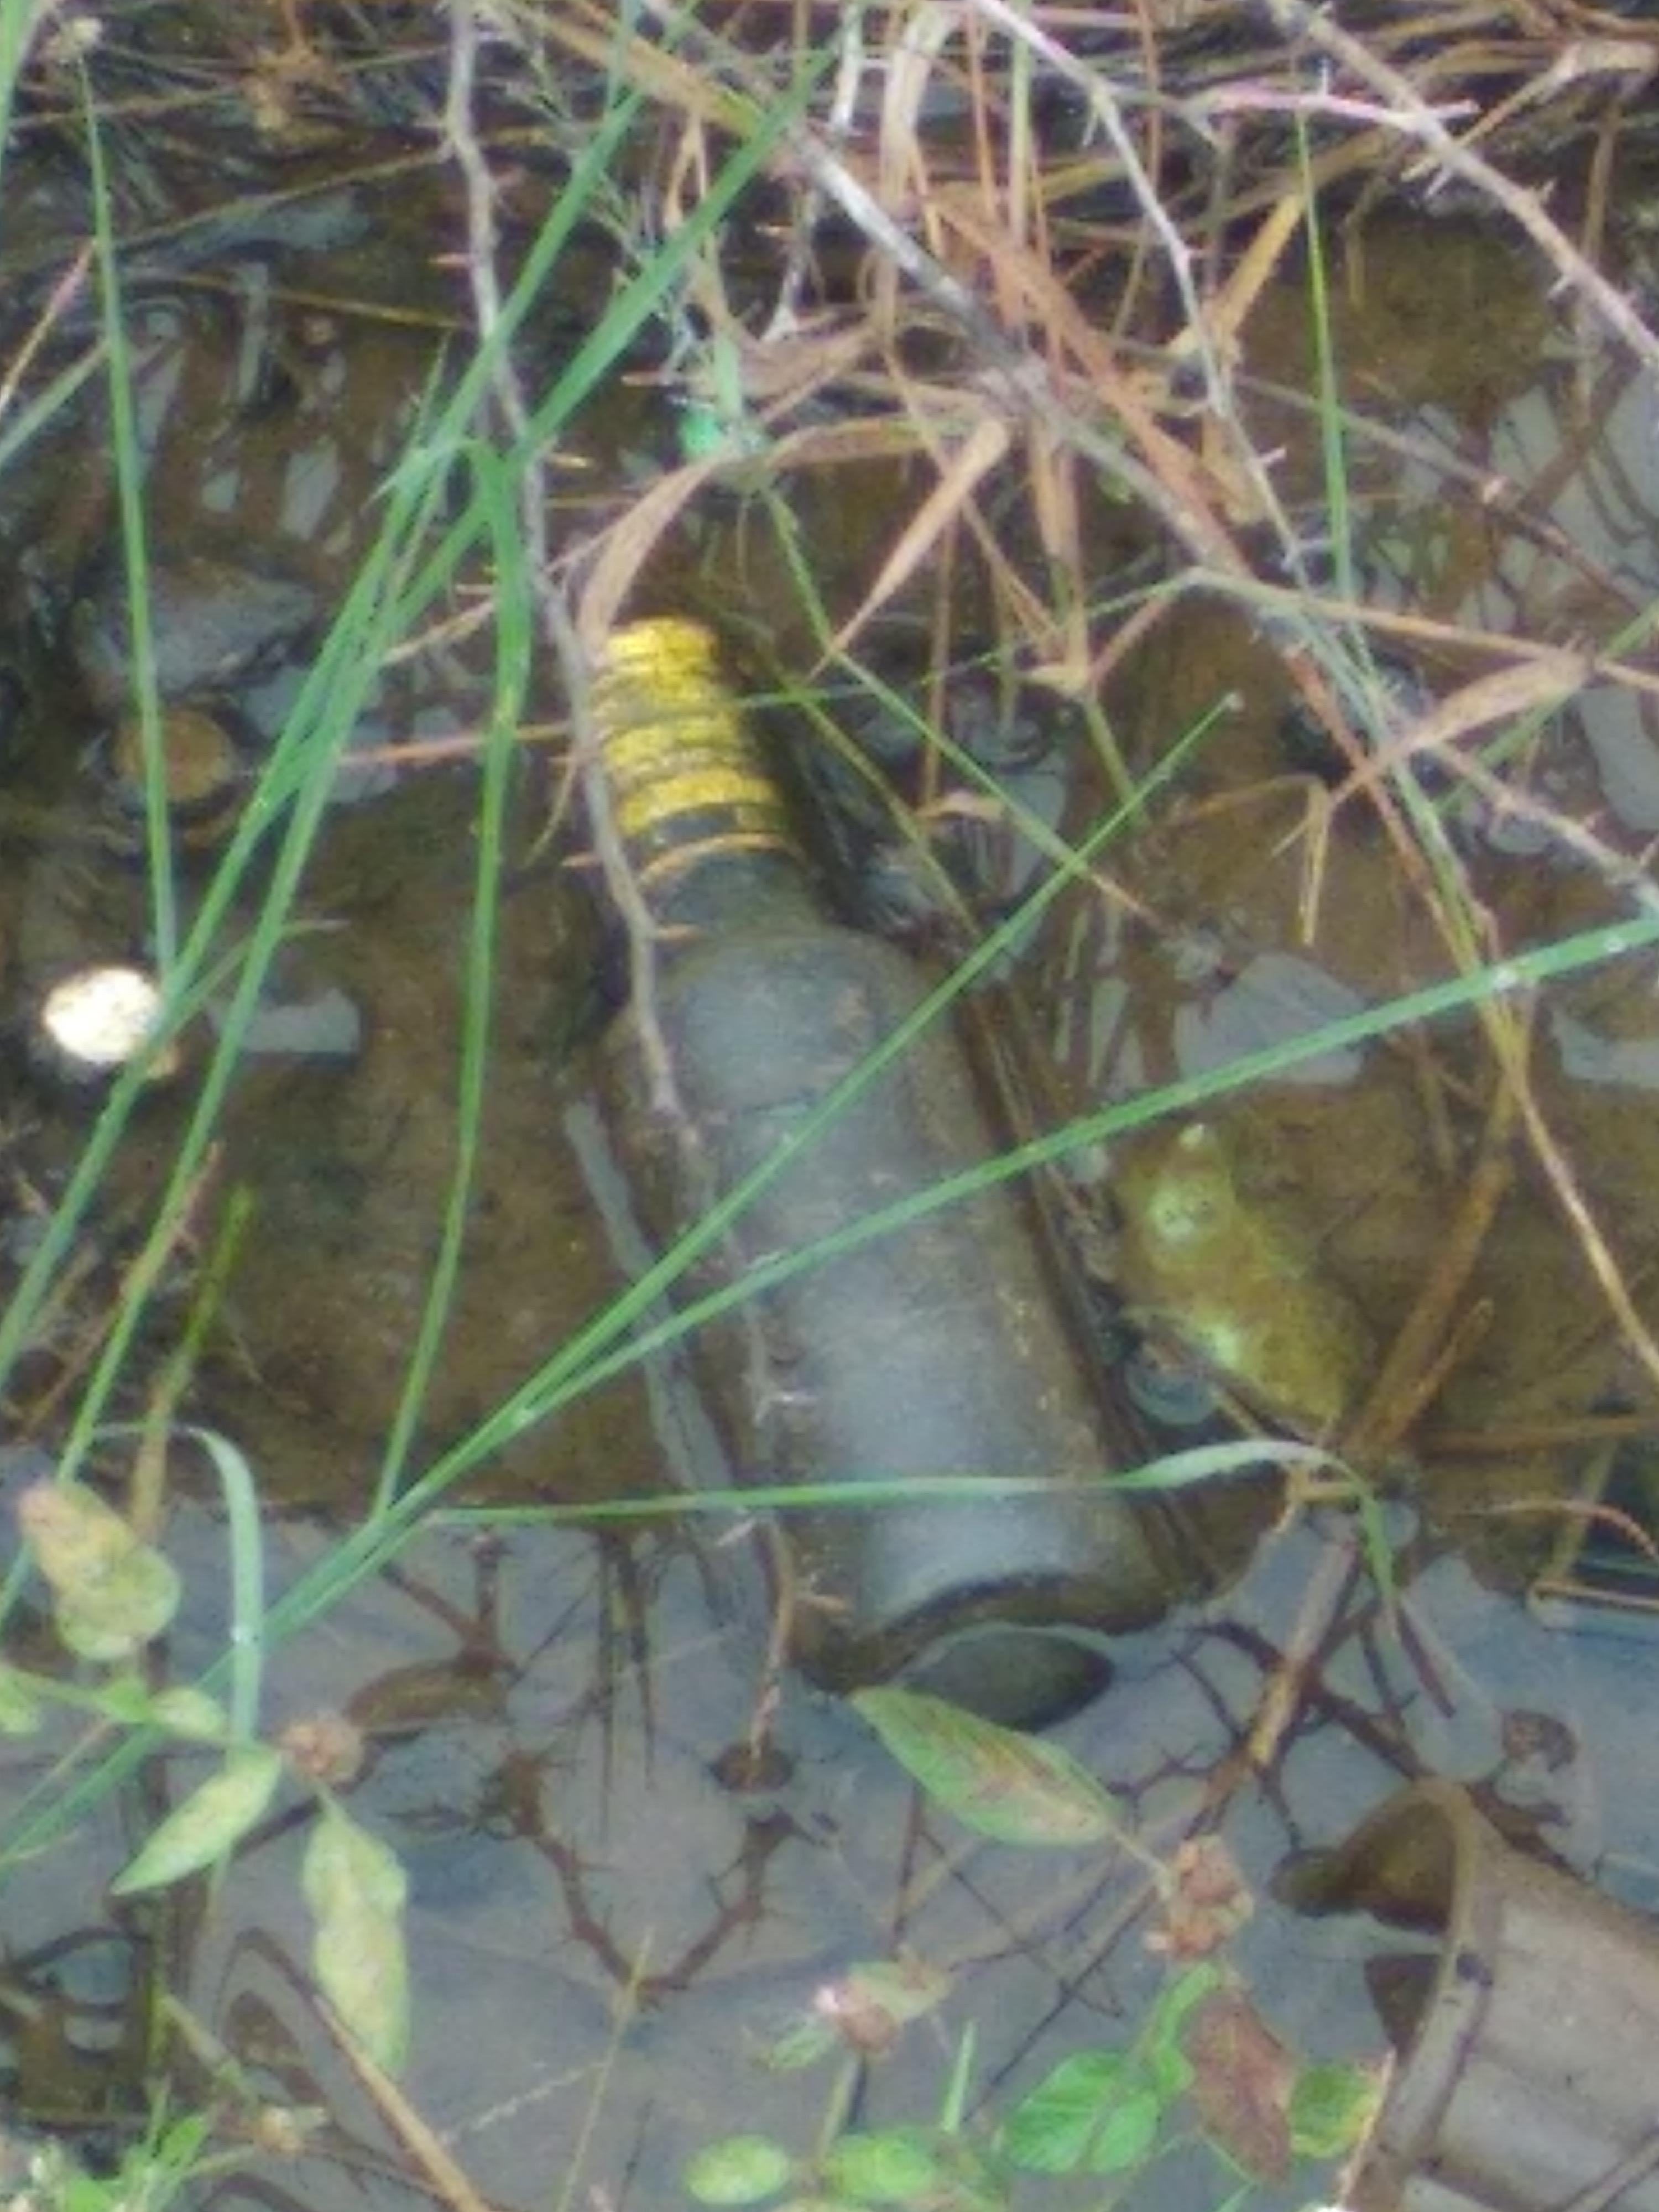trash: (547, 613, 1176, 1740)
